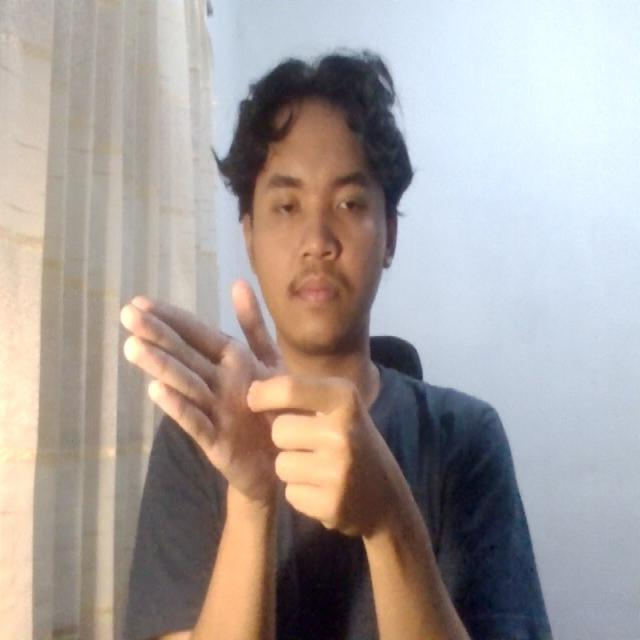L: (102, 261, 422, 551)
